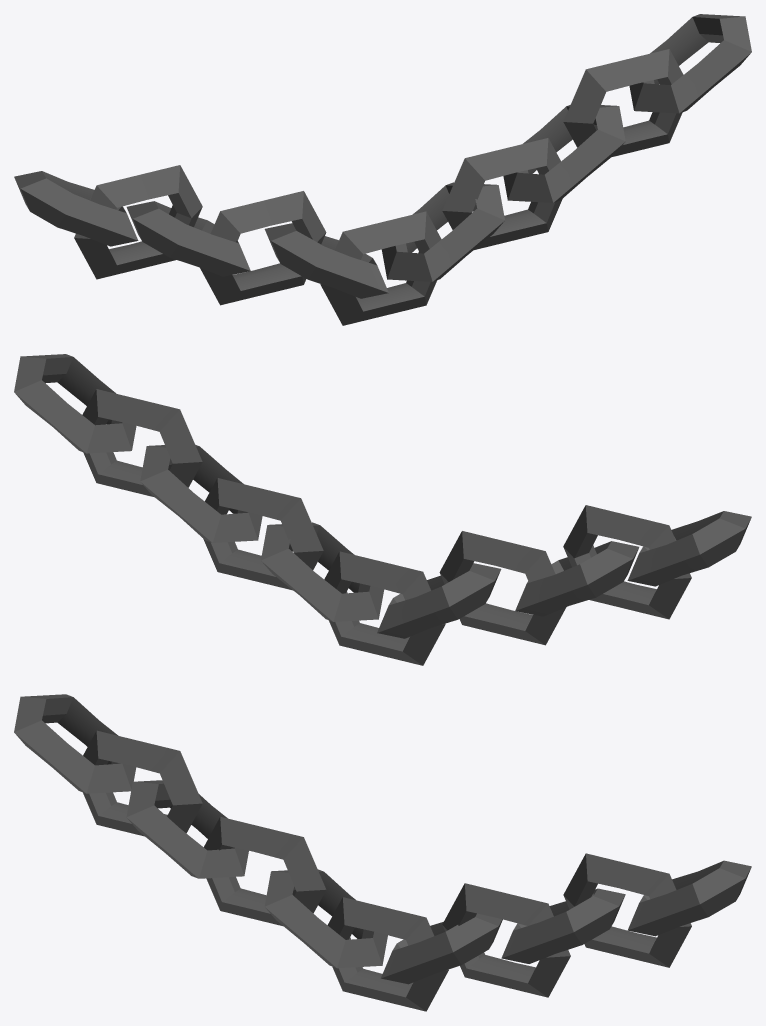
Rendered from Chain_hanging.fbx.
The picture shows the model from 3 angles, top to bottom: view 1: azimuth 30°, elevation 25°; view 2: azimuth 150°, elevation 25°; view 3: azimuth 330°, elevation 25°; orthographic projection.
Parts seen in each view (by area): view 1: Chain_hanging; view 2: Chain_hanging; view 3: Chain_hanging.
Boxes of the visible parts, <box> form: Chain_hanging: <box>14,14,751,325</box>; Chain_hanging: <box>14,354,751,665</box>; Chain_hanging: <box>14,694,751,1011</box>.
Size of the model in its own units: 139 by 40.27 by 17.26.
